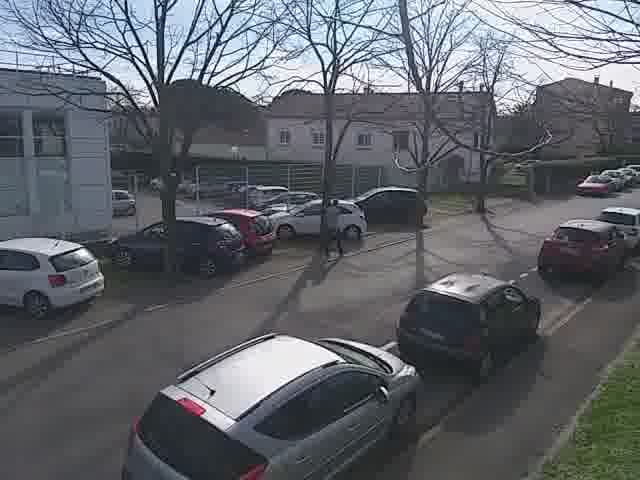persona: (318, 192, 348, 263)
